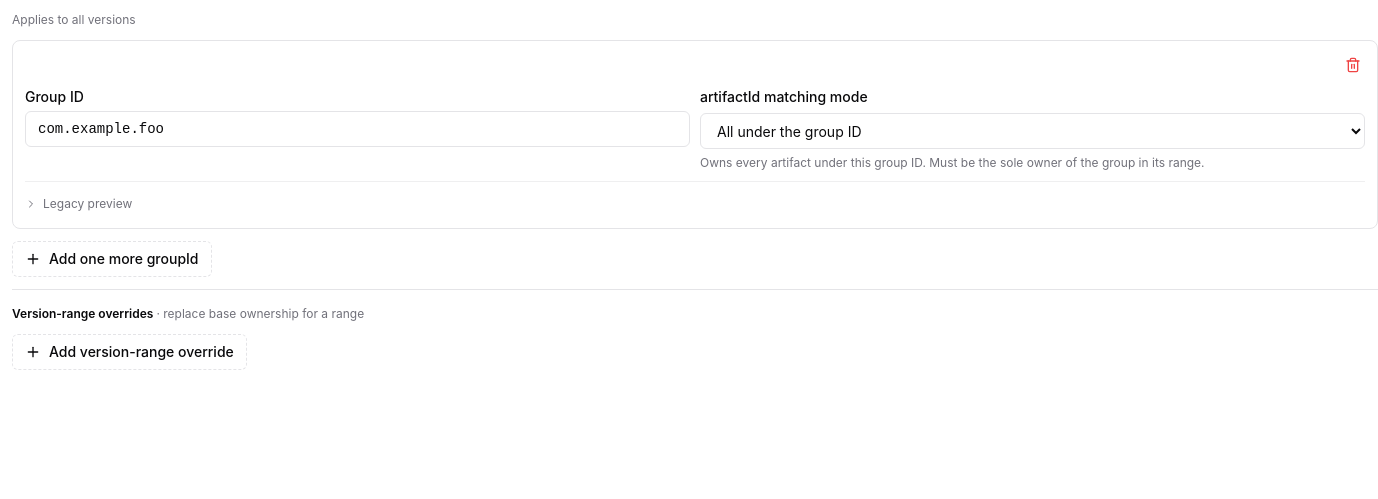
ArtifactOwnershipEditor › switching to "Specific artifacts" reveals the token chip input
The image size is (1378, 499).
expect the field labelled "Specific artifacts" is not shown: met
Select "Specific artifacts only" in the dropdown labelled "artifactId matching mode". click: [1032, 131]
box: [700,113,1365,149]
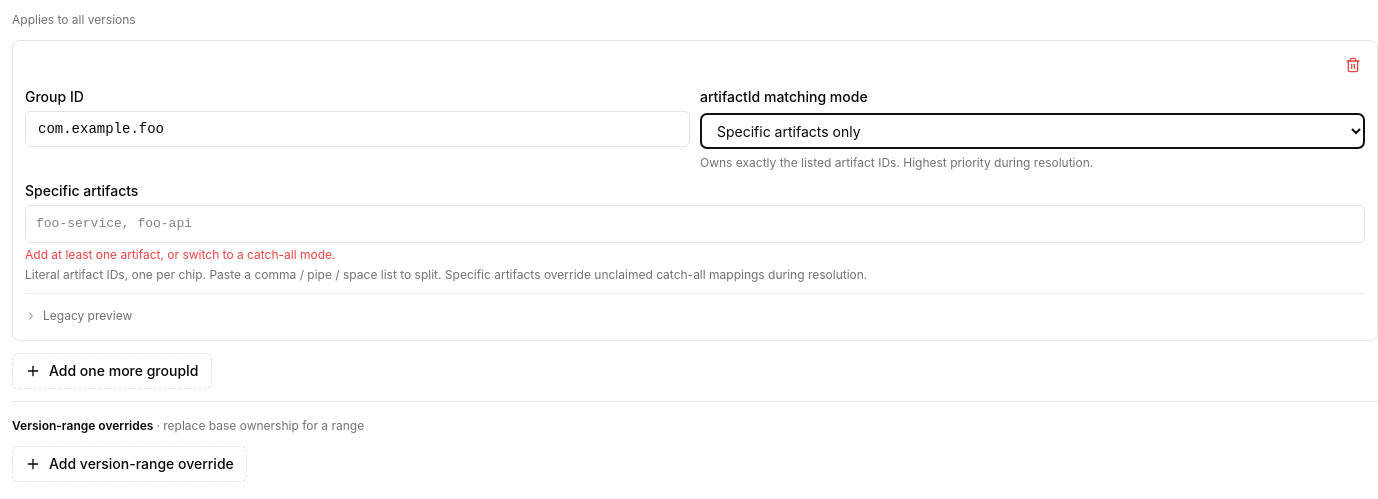
expect the field named "Specific artifacts" is shown: met, box [34,213,1356,235]
expect the text "Add at least one artifact, or switch to a catch-all mode." is shown: met, box [25,247,336,262]
